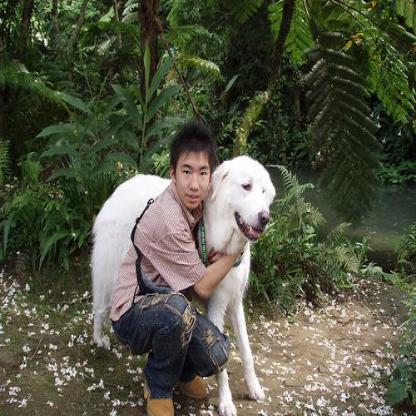Great_Pyrenees: (88, 153, 276, 414)
